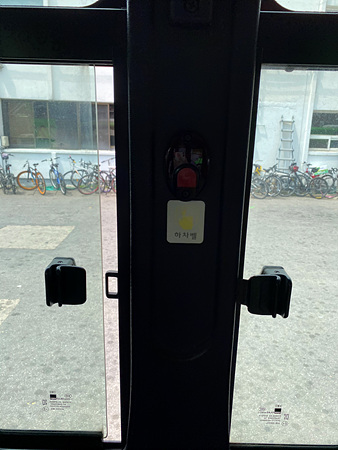bell: (163, 139, 210, 200)
